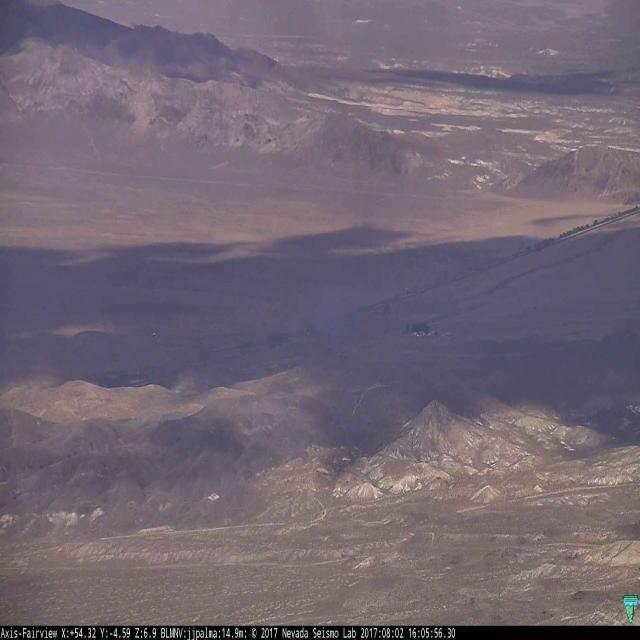smoke: (285, 268, 368, 354)
